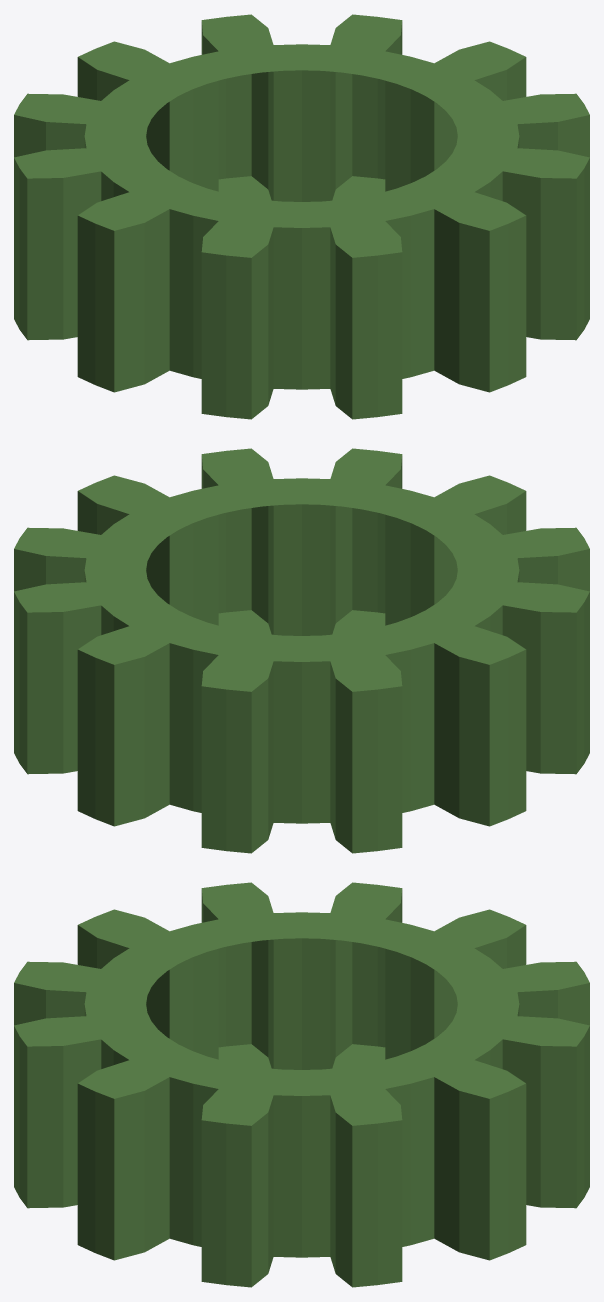
File: IconGear.glb
3 renders of one model, top to bottom at view 1: azimuth 30°, elevation 25°; view 2: azimuth 150°, elevation 25°; view 3: azimuth 270°, elevation 25°, orthographic.
Visible parts, largest first — view 1: IconGear; view 2: IconGear; view 3: IconGear.
Part boxes in pixels (<box>): IconGear: <box>14,14,589,419</box>; IconGear: <box>14,448,589,853</box>; IconGear: <box>14,882,589,1287</box>.
Size of the model in its own units: 2.84 by 0.8783 by 2.84.
